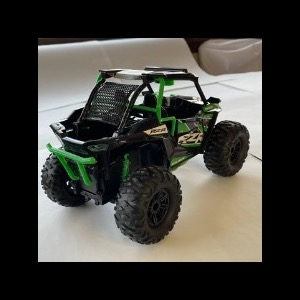polaris: (41, 64, 251, 247)
